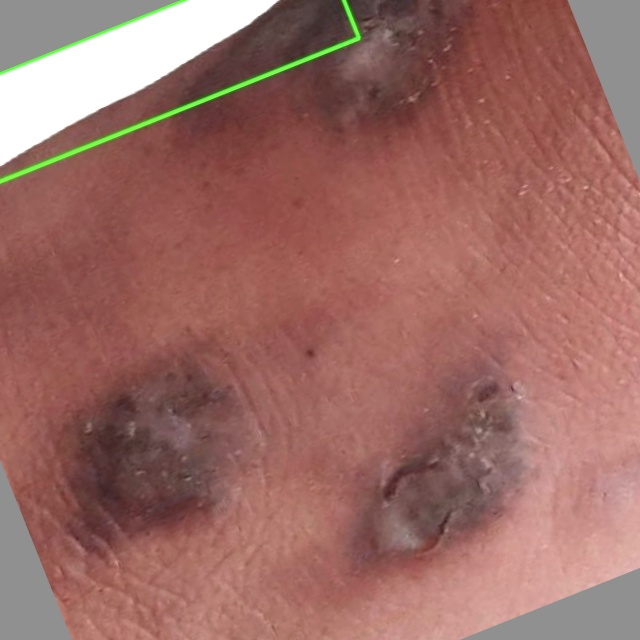Contact Dermatitis: (0, 0, 358, 181)
